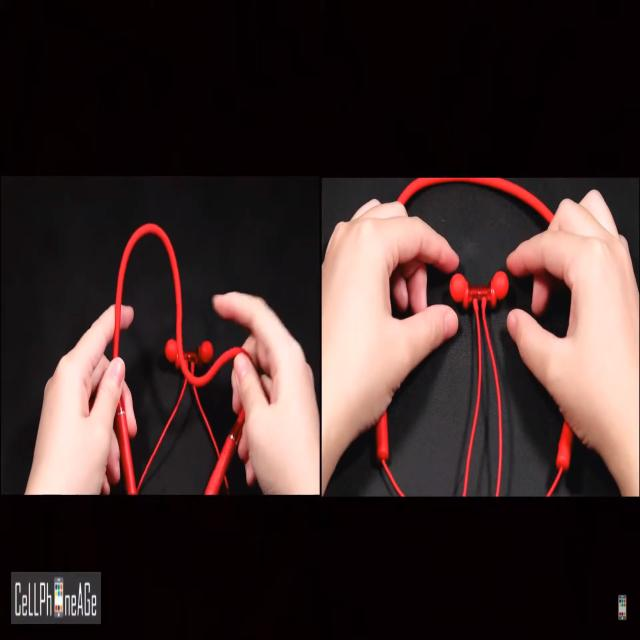Neckband: (375, 177, 575, 496), (114, 220, 256, 497)
